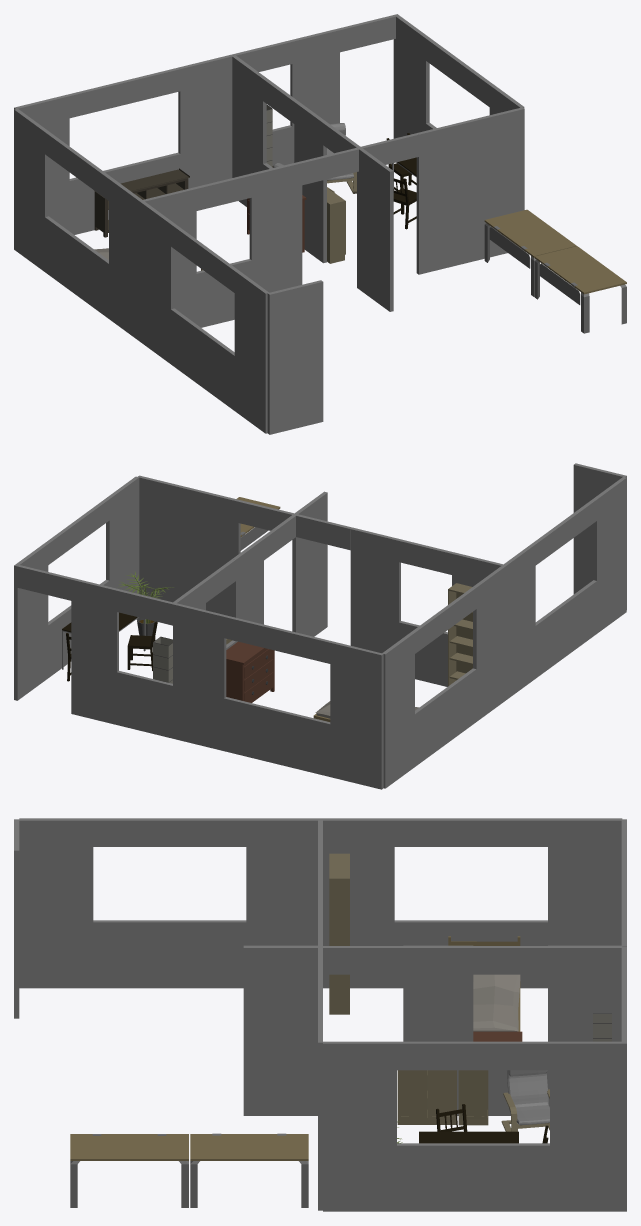
The model's file is adream_half_empty.dae.
3 renders of one model, top to bottom at view 1: azimuth 30°, elevation 25°; view 2: azimuth 150°, elevation 25°; view 3: azimuth 270°, elevation 25°, orthographic. The views are drawn at different scales.
Parts seen in each view (by area): view 1: C6_plein_ext_P, office_desk_002, office_desk_003, IKEA_console_HEMNES, IKEA_cupboard_BILLY_3, IKEA_chair_STEFAN_001; view 2: C6_plein_ext_P, IKEA_chest_HEMNES, IKEA_cupboard_BILLY_1, IKEA_RUTBO, IKEA_Plant_2, IKEA_chair_STEFAN_001, office_desk_002; view 3: C6_plein_ext_P, office_desk_003, office_desk_002, IKEA_bed_FJELLSE, IKEA_cupboard_BILLY_3, IKEA_cupboard_BILLY_1, IKEA_chair_PELLO_001, IKEA_cupboard_BILLY_2, IKEA_table_TORSBY, IKEA_RUTBO, IKEA_chest_HEMNES.
Boxes of the visible parts, x1,y1,x2,y2 form: C6_plein_ext_P: [14, 14, 524, 434]; office_desk_002: [534, 246, 626, 333]; office_desk_003: [484, 209, 576, 296]; IKEA_console_HEMNES: [94, 168, 189, 237]; IKEA_cupboard_BILLY_3: [327, 187, 345, 263]; IKEA_chair_STEFAN_001: [393, 178, 416, 229]; C6_plein_ext_P: [14, 463, 626, 789]; IKEA_chest_HEMNES: [226, 641, 274, 702]; IKEA_cupboard_BILLY_1: [448, 583, 472, 686]; IKEA_RUTBO: [153, 636, 172, 683]; IKEA_Plant_2: [118, 571, 173, 635]; IKEA_chair_STEFAN_001: [127, 621, 157, 670]; office_desk_002: [236, 497, 280, 550]; C6_plein_ext_P: [14, 818, 626, 1211]; office_desk_003: [190, 1133, 308, 1207]; office_desk_002: [70, 1134, 188, 1207]; IKEA_bed_FJELLSE: [448, 936, 520, 1031]; IKEA_cupboard_BILLY_3: [397, 1070, 456, 1124]; IKEA_cupboard_BILLY_1: [329, 853, 349, 1014]; IKEA_chair_PELLO_001: [501, 1070, 549, 1131]; IKEA_cupboard_BILLY_2: [458, 1070, 488, 1125]; IKEA_table_TORSBY: [419, 1131, 518, 1143]; IKEA_RUTBO: [593, 1013, 611, 1041]; IKEA_chest_HEMNES: [473, 1031, 522, 1041].
Size of what is drawn, in the model's own units: 7.19 by 8.27 by 2.5.
